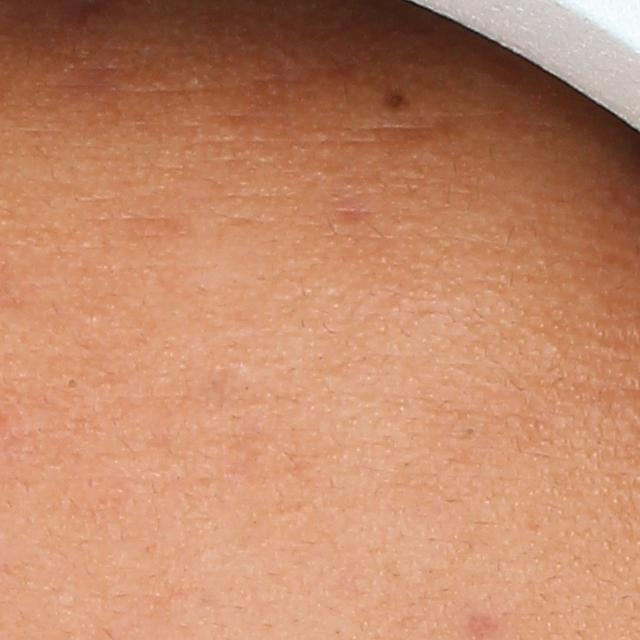nevus: (377, 87, 409, 113)
